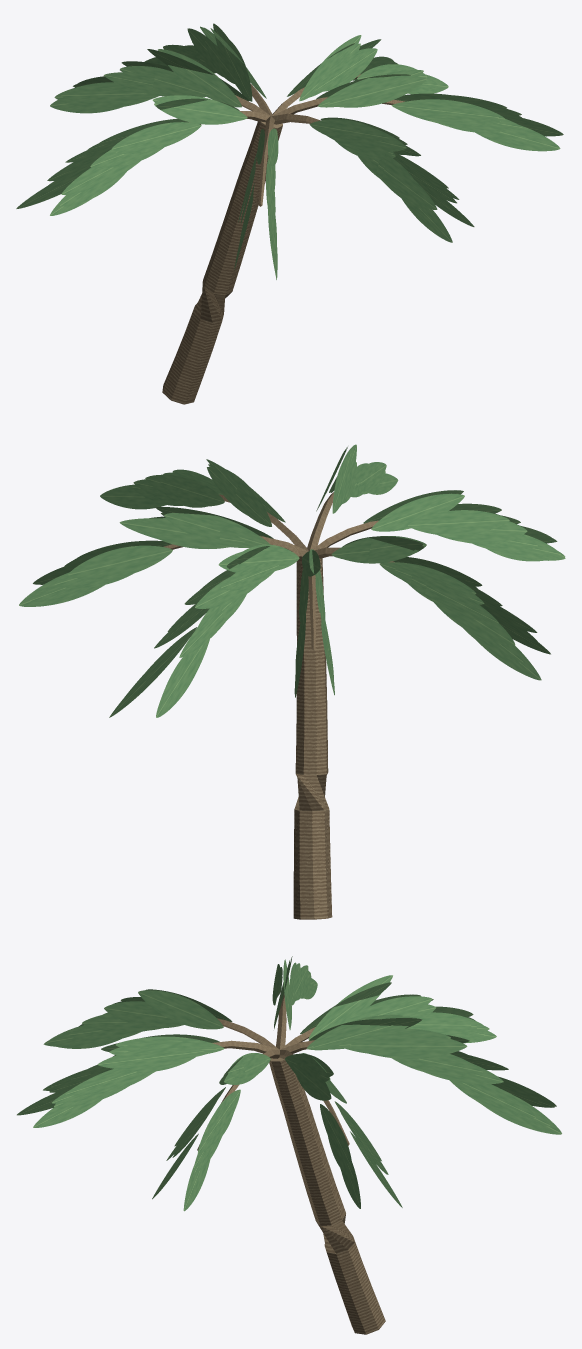
File: 야자수_03.fbx
3 renders of one model, top to bottom at view 1: azimuth 30°, elevation 25°; view 2: azimuth 150°, elevation 25°; view 3: azimuth 270°, elevation 25°, orthographic. The views are drawn at different scales.
Parts seen in each view (by area): view 1: 야자수_03; view 2: 야자수_03; view 3: 야자수_03.
Part boxes in pixels (bbox=[...]): 야자수_03: bbox=[16, 23, 563, 404]; 야자수_03: bbox=[19, 444, 565, 919]; 야자수_03: bbox=[17, 956, 561, 1334].
Size of the model in its own units: 6515 by 4560 by 6459.
Materials: 2 (2 with a texture image).
